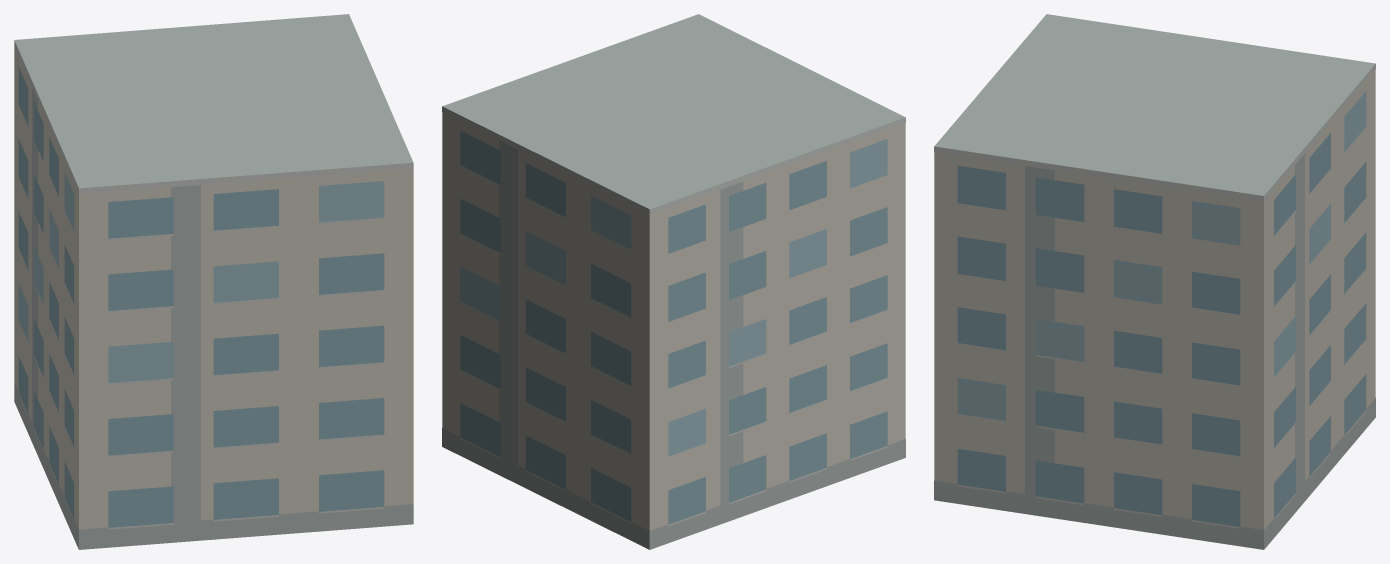
The model's file is survey-upis-32889265.glb.
3 views of the same model, side by side, from view 1: azimuth 30°, elevation 25°; view 2: azimuth 150°, elevation 25°; view 3: azimuth 270°, elevation 25° (orthographic). The views are drawn at different scales.
Visible parts, largest first — view 1: survey-upis-32889265.tmp; view 2: survey-upis-32889265.tmp; view 3: survey-upis-32889265.tmp.
Part boxes in pixels (box(x1,y1,x2,y2)): survey-upis-32889265.tmp: box(14, 14, 413, 549); survey-upis-32889265.tmp: box(442, 14, 905, 549); survey-upis-32889265.tmp: box(934, 14, 1375, 549).
Bounding box in the file's own units: 16.12 × 14.6 × 16.53.
